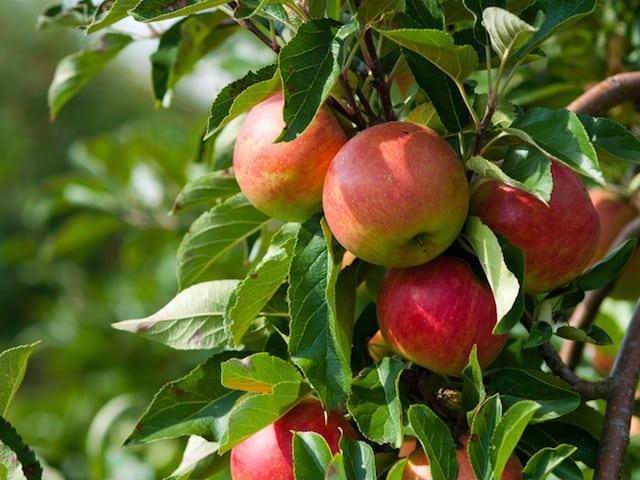apple: (319, 121, 469, 269), (375, 253, 510, 379), (466, 160, 596, 288), (230, 92, 349, 224), (230, 395, 358, 478)
